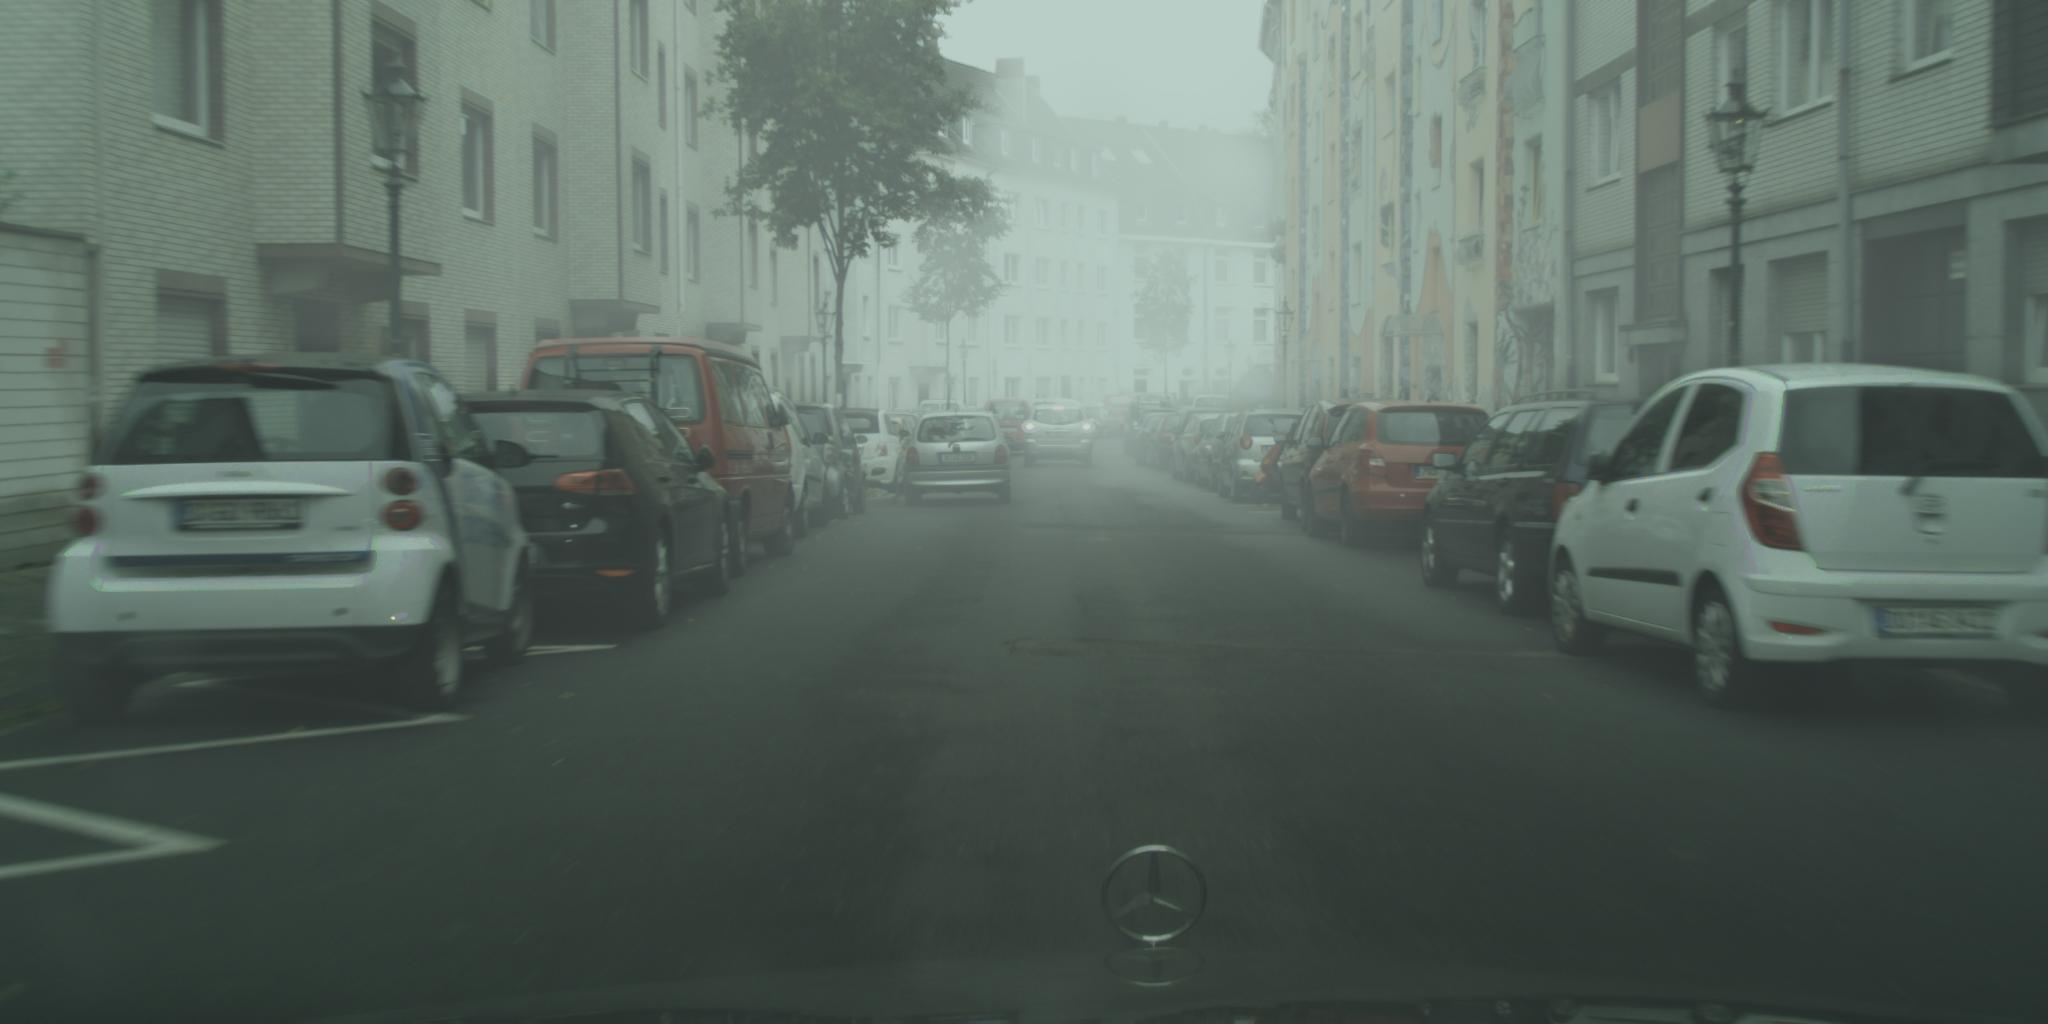car: (43, 353, 538, 722), (1546, 363, 2048, 721), (400, 388, 734, 633), (516, 336, 798, 580), (1418, 391, 1650, 618), (1307, 398, 1503, 549), (1279, 398, 1404, 529), (752, 387, 835, 539), (903, 411, 1012, 509), (786, 402, 870, 520), (1216, 409, 1314, 504), (842, 409, 916, 500), (1024, 405, 1095, 469), (1031, 398, 1101, 440), (985, 398, 1033, 455), (913, 400, 973, 428), (1081, 406, 1125, 439)
motorcycle: (1249, 415, 1307, 508)
